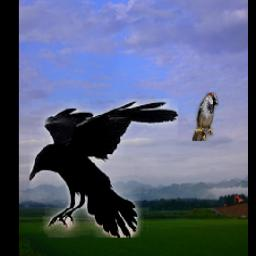Crow: (30, 99, 178, 238)
Sparrow: (192, 93, 218, 142)
